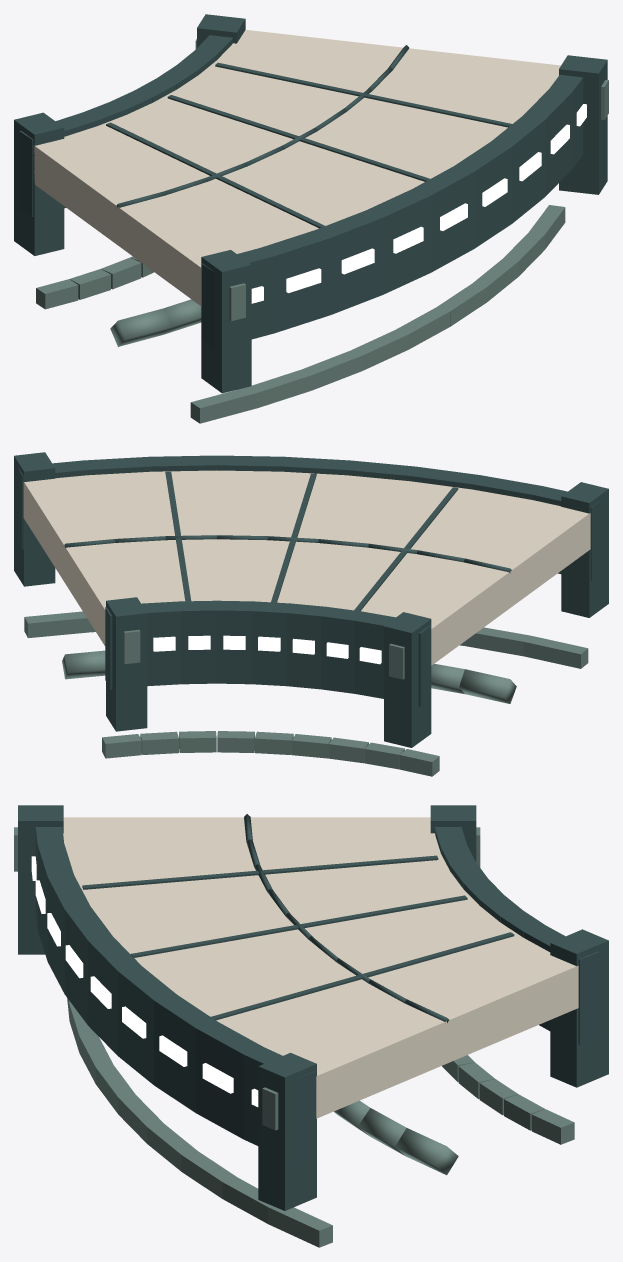
File: Curve_45_lab.glb
The picture shows the model from 3 angles, top to bottom: view 1: azimuth 30°, elevation 25°; view 2: azimuth 150°, elevation 25°; view 3: azimuth 270°, elevation 25°; orthographic projection. The views are drawn at different scales.
Parts seen in each view (by area): view 1: Curve_45; view 2: Curve_45; view 3: Curve_45.
Boxes of the visible parts, bbox=[...] form: Curve_45: bbox=[14, 14, 608, 423]; Curve_45: bbox=[14, 452, 608, 776]; Curve_45: bbox=[14, 805, 608, 1247].
Bounding box in the file's own units: 4.83 × 1.52 × 4.44.
